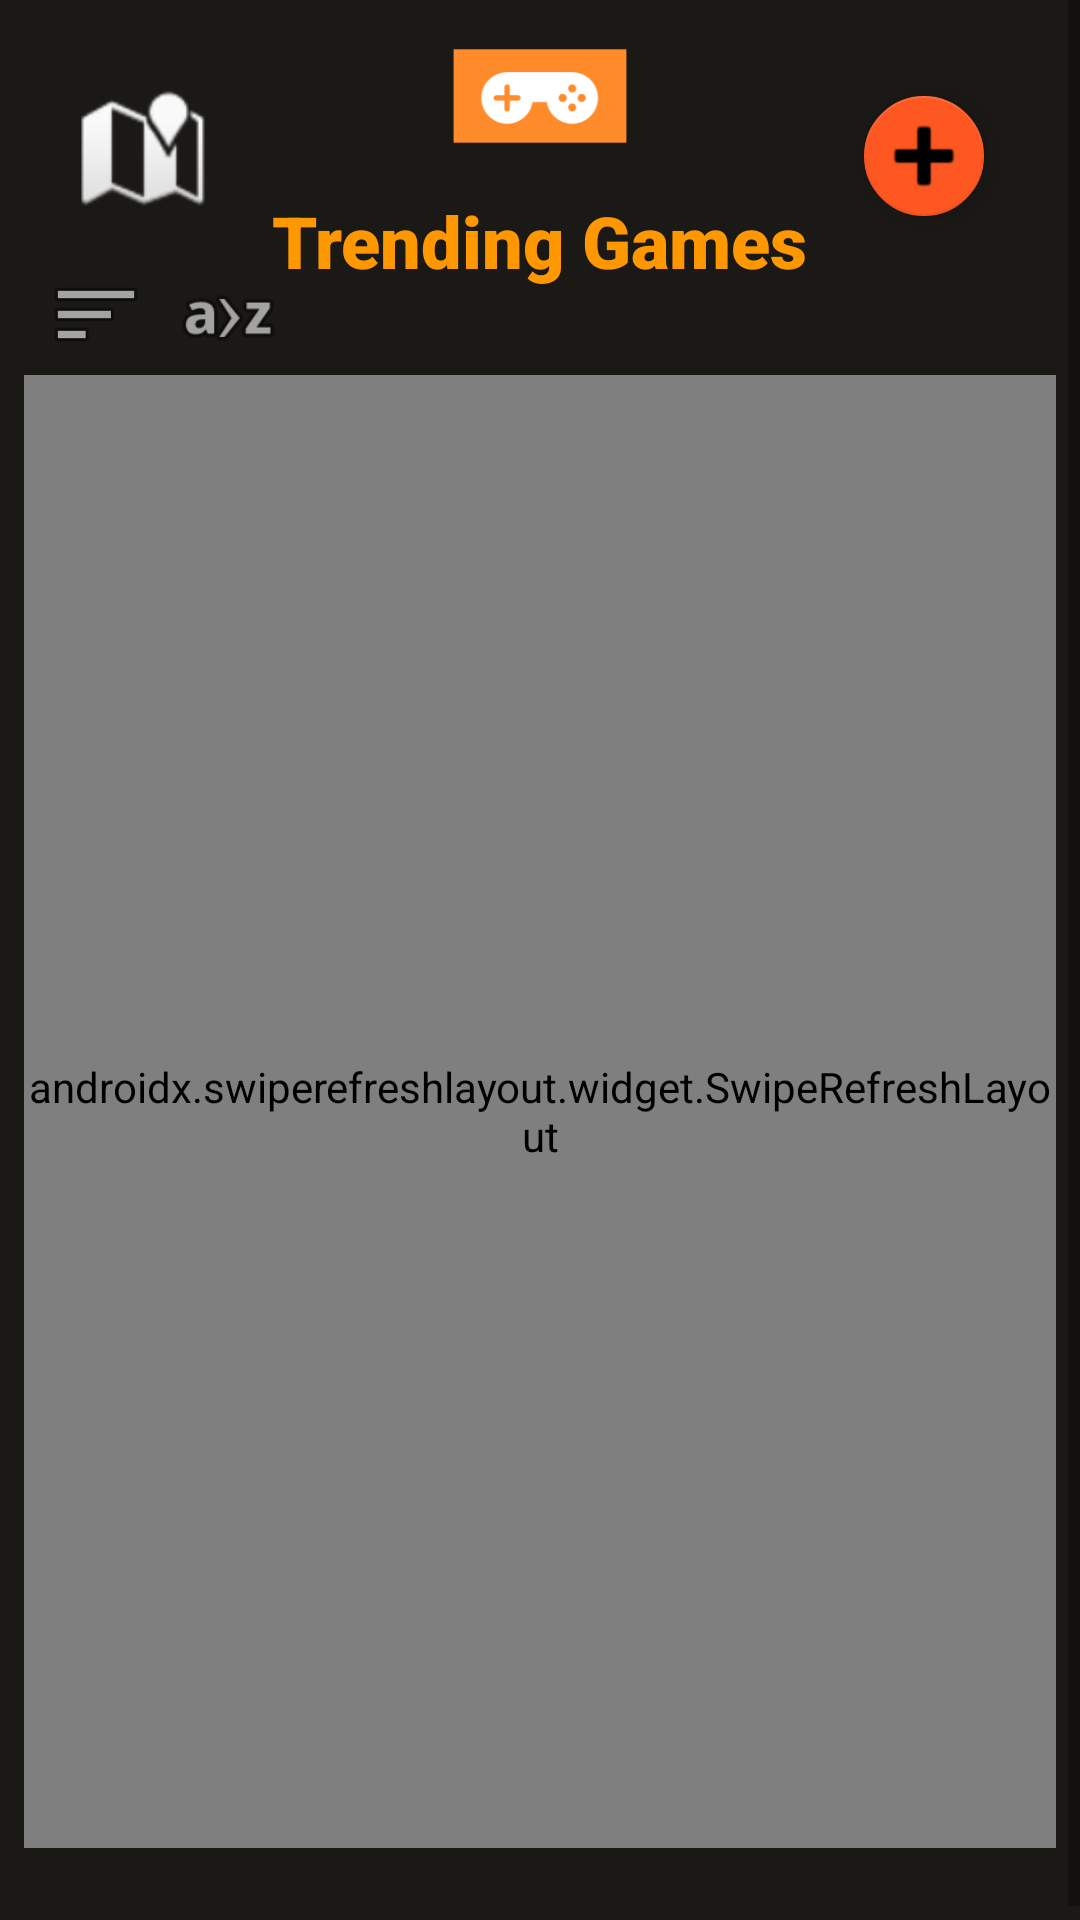

Where icons sit on this 1080 × 1920 app screen, as [x1=x1, y1=y1, x2=x2, y2=y2]:
add: [x1=864, y1=96, x2=984, y2=216]
gamechangersimple: [x1=453, y1=49, x2=627, y2=143]
map: [x1=81, y1=91, x2=205, y2=205]
sort alphabetically: [x1=186, y1=299, x2=271, y2=337]
sort by size: [x1=58, y1=291, x2=134, y2=338]
